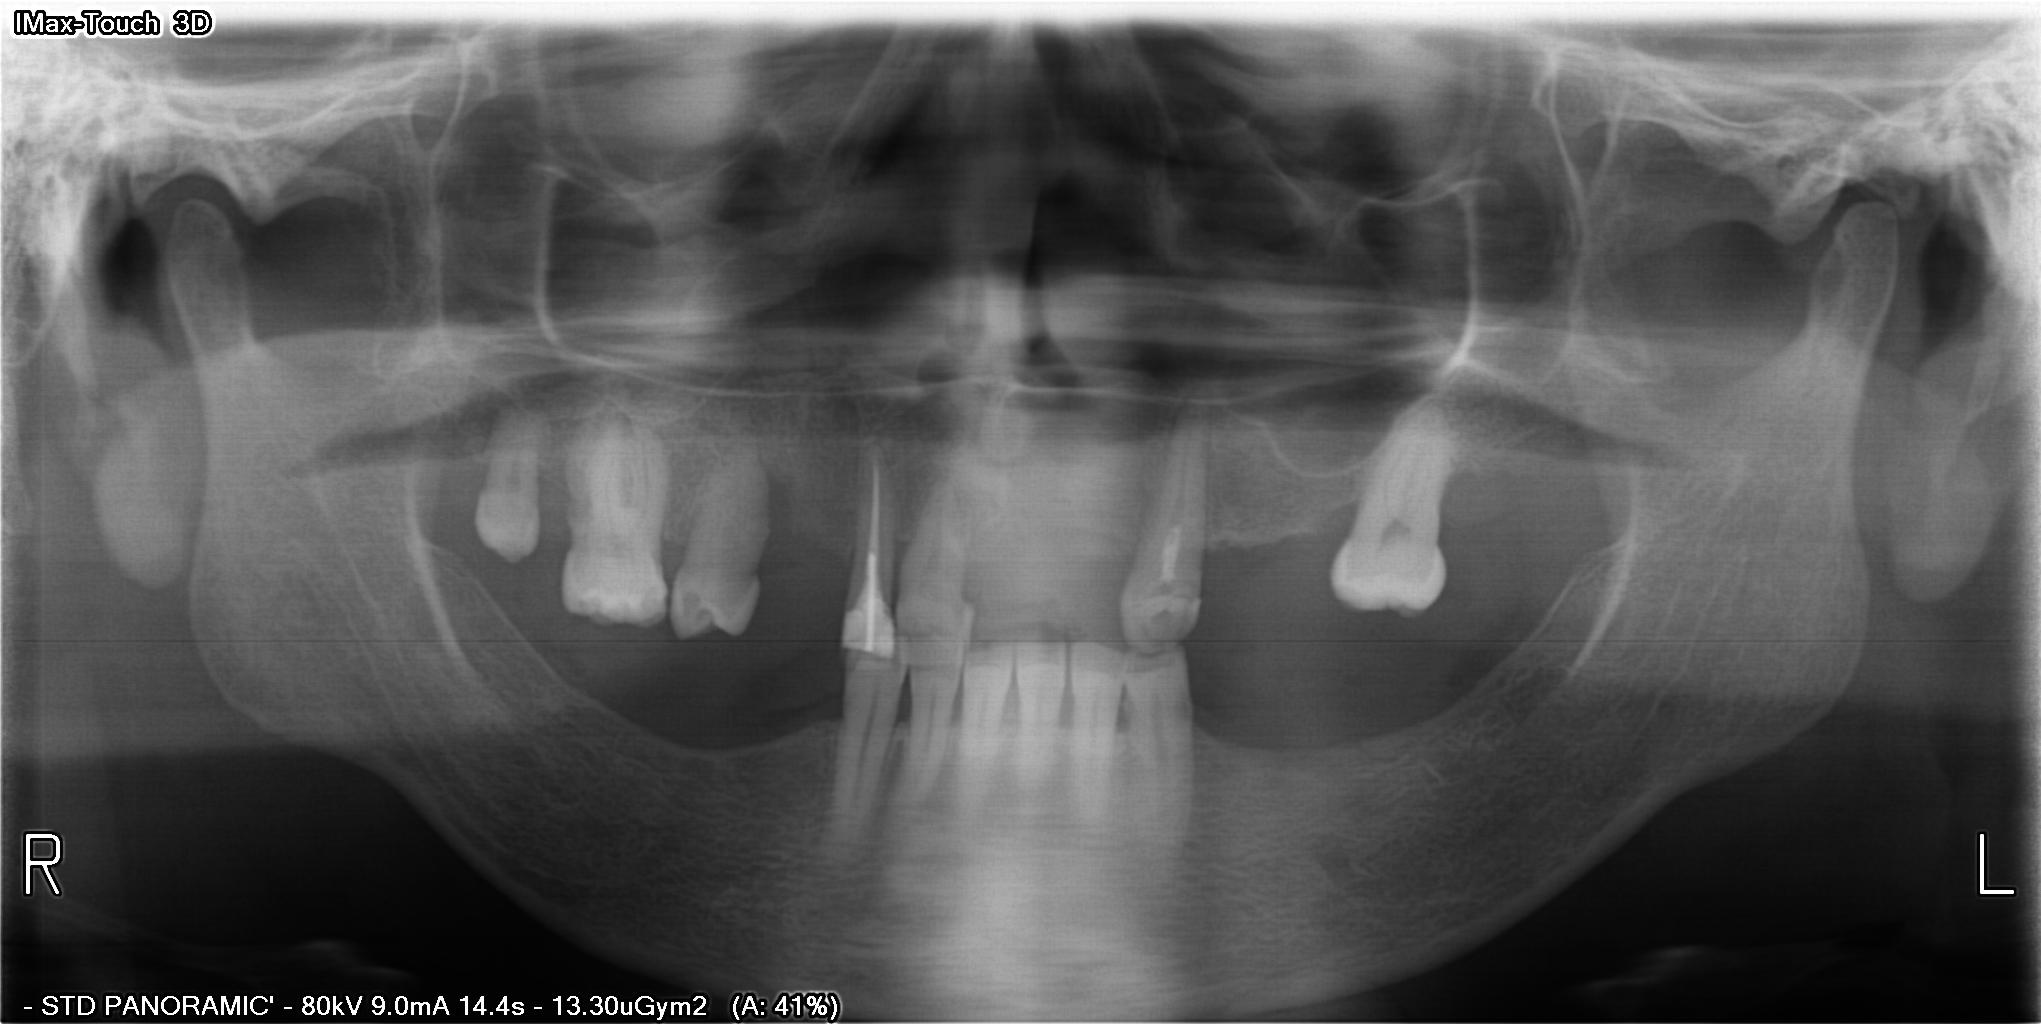Çürük: (558, 549, 667, 626), (837, 586, 906, 657)
Çürük Bölgesi: (678, 583, 704, 627)
